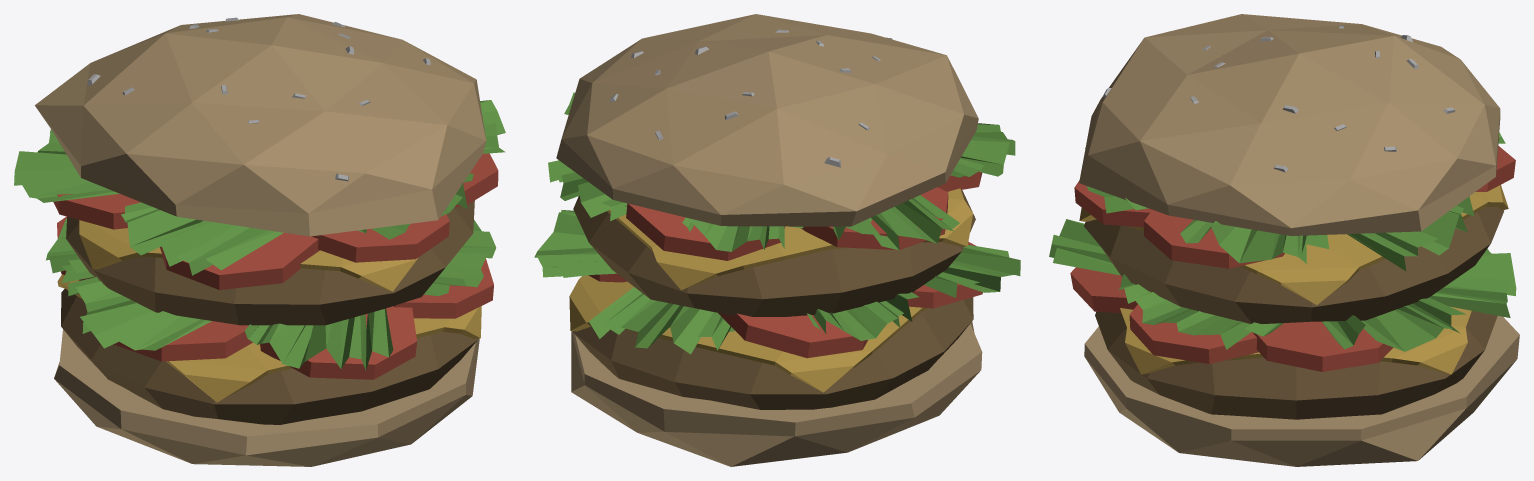
Rendered from BurgerLarge.glb.
3 renders of one model, left to right at view 1: azimuth 30°, elevation 25°; view 2: azimuth 150°, elevation 25°; view 3: azimuth 270°, elevation 25°, orthographic. The views are drawn at different scales.
Visible parts, largest first — view 1: LightYellow, Brown, LightGreen, Red, Yellow, White; view 2: LightYellow, Brown, LightGreen, Yellow, Red, White; view 3: LightYellow, Brown, LightGreen, Red, Yellow, White.
Part boxes in pixels (box(x1,y1,x2,y2)): LightYellow: box(35, 14, 486, 466); Brown: box(61, 200, 477, 424); LightGreen: box(14, 100, 505, 370); Red: box(53, 153, 498, 379); Yellow: box(57, 220, 481, 402); White: box(87, 17, 430, 181); LightYellow: box(556, 14, 982, 466); Brown: box(573, 190, 975, 409); LightGreen: box(534, 92, 1020, 354); Yellow: box(569, 188, 972, 392); Red: box(588, 171, 982, 358); White: box(610, 29, 892, 167); LightYellow: box(1079, 14, 1519, 466); Brown: box(1084, 206, 1503, 419); LightGreen: box(1049, 132, 1516, 351); Red: box(1070, 146, 1515, 371); Yellow: box(1079, 185, 1508, 374); White: box(1103, 25, 1455, 172).
Size of the model in its own units: 1.72 by 1.45 by 1.67.
